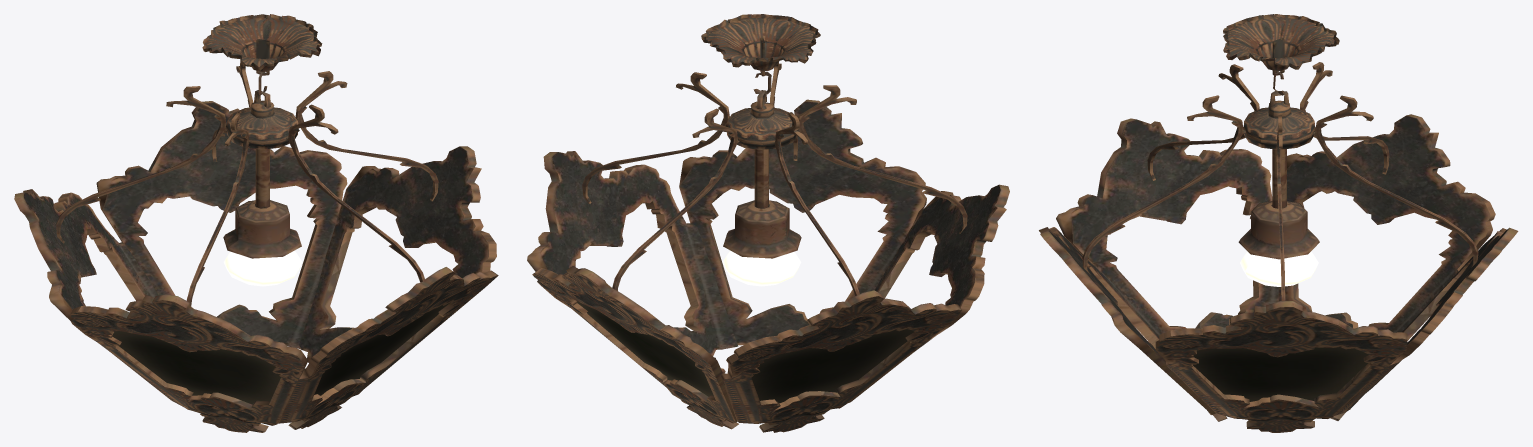
Rendered from props.glb.
3 renders of one model, left to right at view 1: azimuth 30°, elevation 25°; view 2: azimuth 150°, elevation 25°; view 3: azimuth 270°, elevation 25°, orthographic.
Visible parts, largest first — view 1: chandelier; view 2: chandelier; view 3: chandelier.
Boxes of the visible parts, x1,y1,x2,y2 form: chandelier: (14, 14, 498, 432); chandelier: (527, 14, 1009, 432); chandelier: (1039, 14, 1518, 432).
Size of the model in its own units: 0.7357 by 0.6228 by 0.7299.
Materials: 3 (2 with a texture image).
